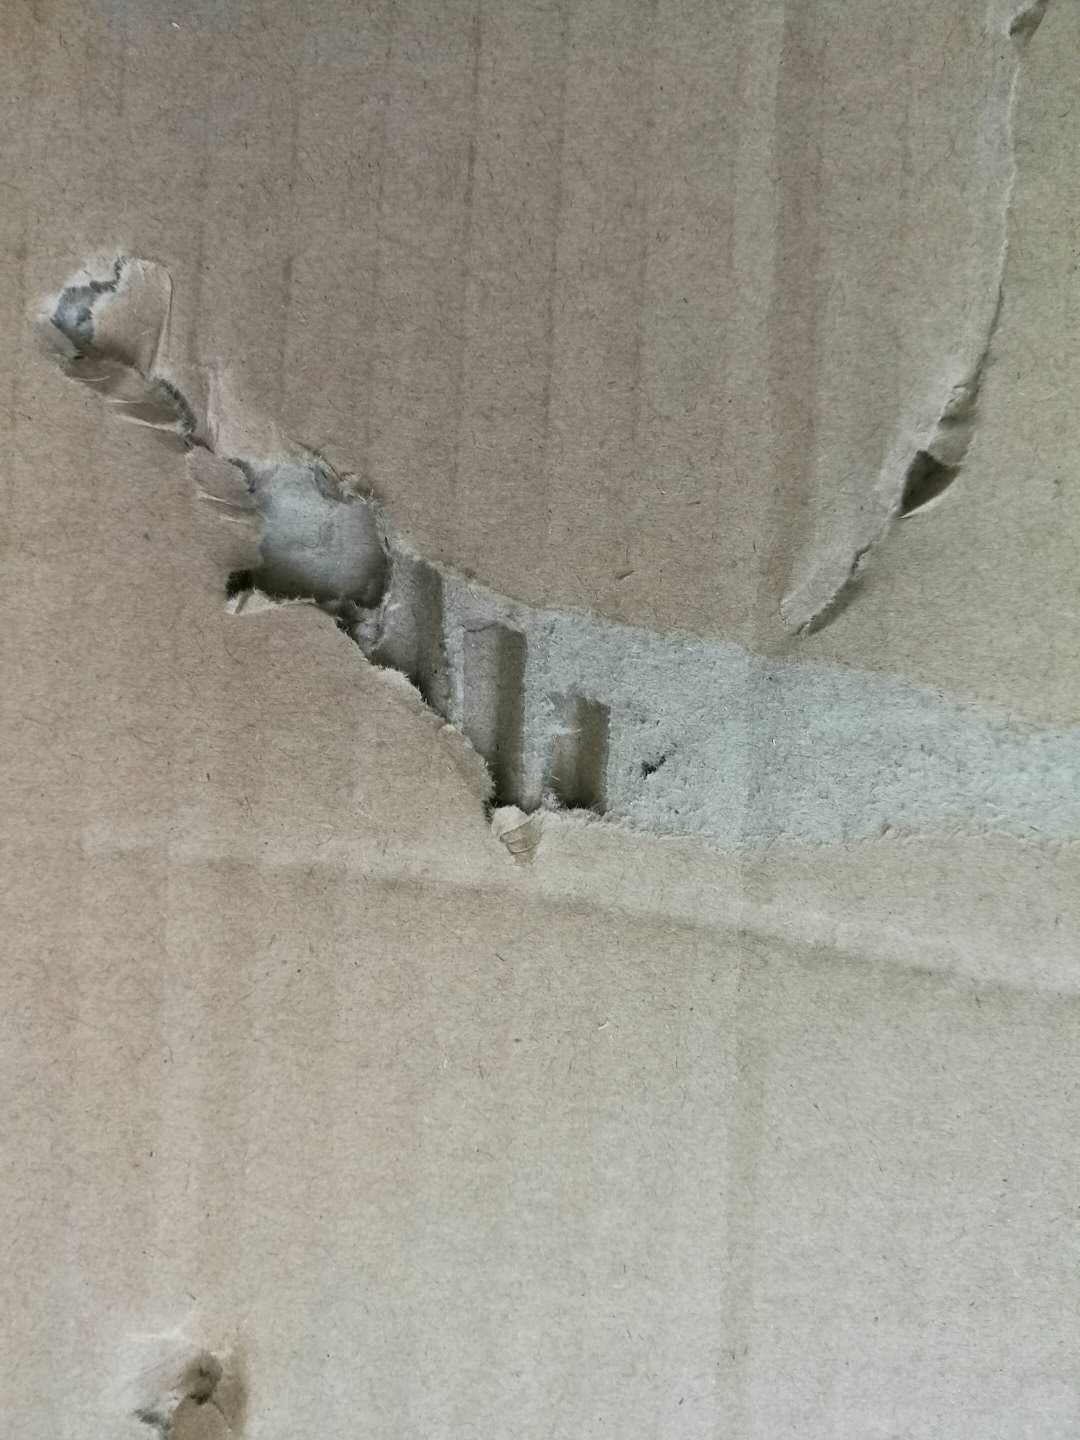defect: (1, 1, 1080, 897), (8, 768, 1080, 1060), (677, 5, 855, 1435), (108, 1293, 277, 1440)
